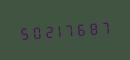eight: (89, 18, 100, 37)
five: (17, 23, 28, 42)
one: (53, 20, 64, 40)
seven: (65, 19, 76, 39), (101, 17, 112, 36)
six: (77, 19, 88, 38)
two: (41, 21, 52, 40)
zero: (29, 22, 40, 41)
